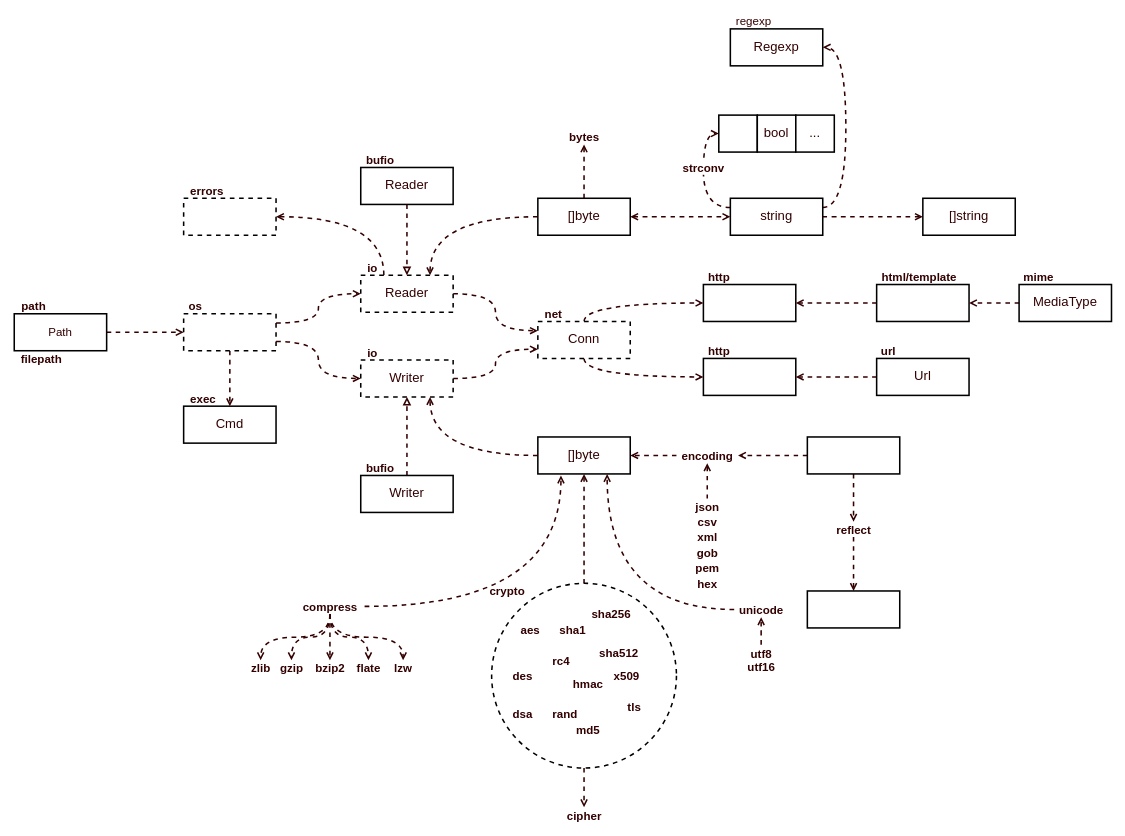
Some shapes in this 1125 by 836 pixel diagram are drawn without their labels. Each missing label, with the centre of its shape:
"Client" goes at (749,376).
"error" goes at (229,216).
"File" goes at (229,332).
"int" goes at (738,133).
"interface" goes at (853,455).
"Server" goes at (749,302).
"Template" goes at (922,302).
"Type" goes at (853,609).
